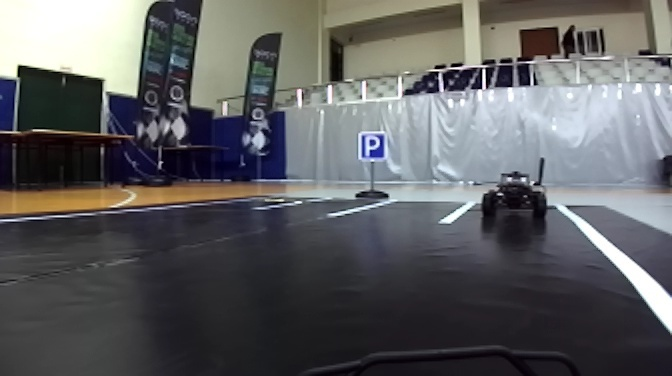park: (356, 132, 392, 162)
